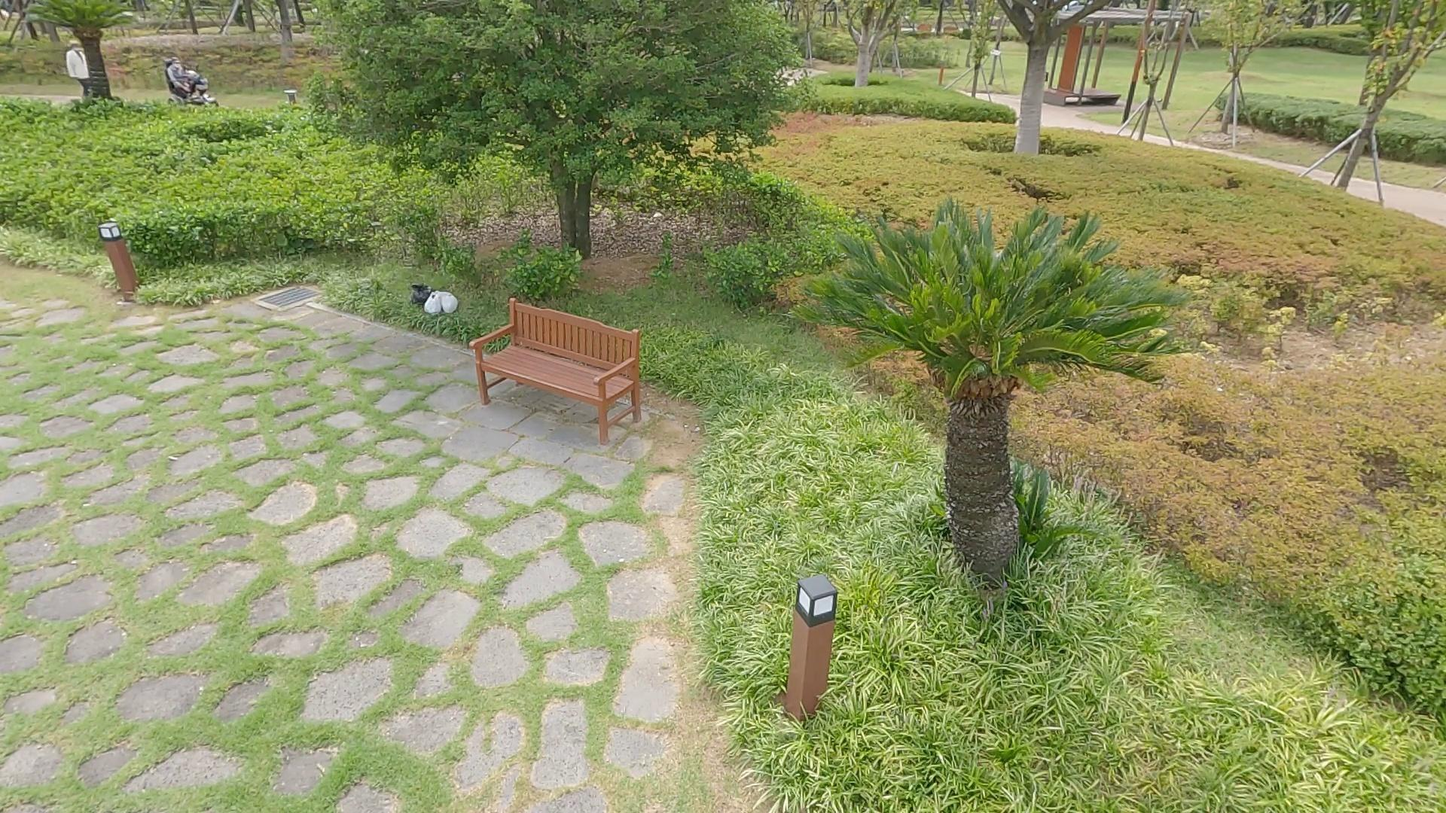trash: (412, 283, 434, 304), (443, 294, 460, 315), (425, 295, 442, 315)
